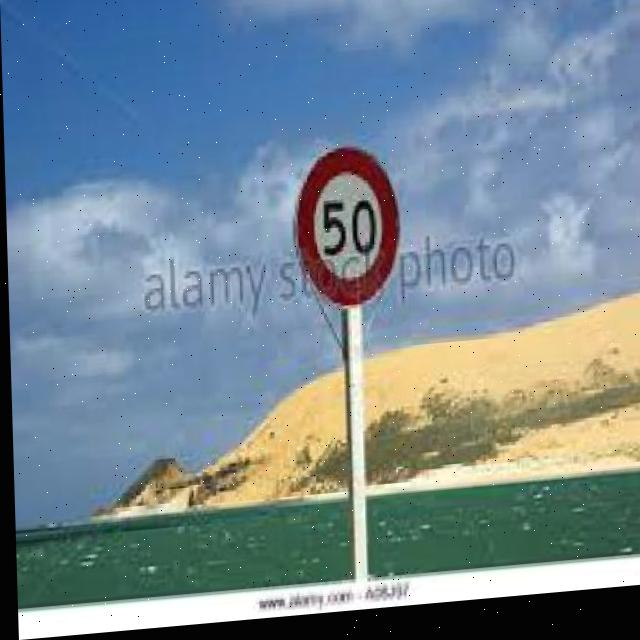Speed limit 50: (288, 147, 404, 321)
